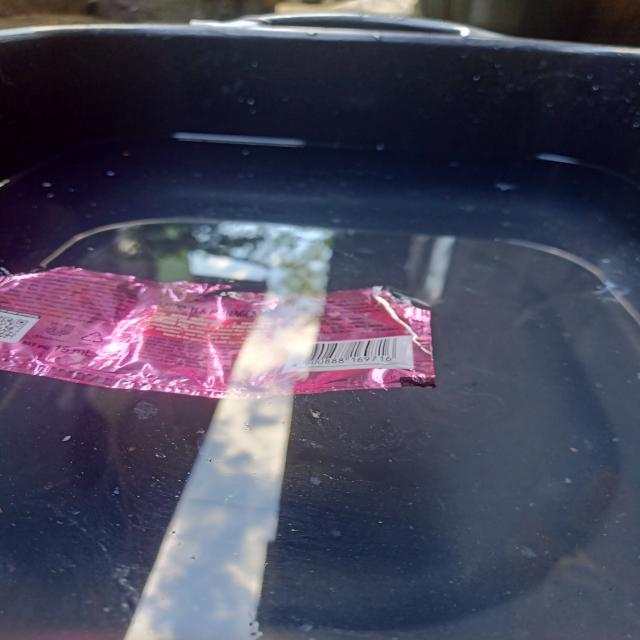Plastic Wrapper: (0, 247, 452, 408)
